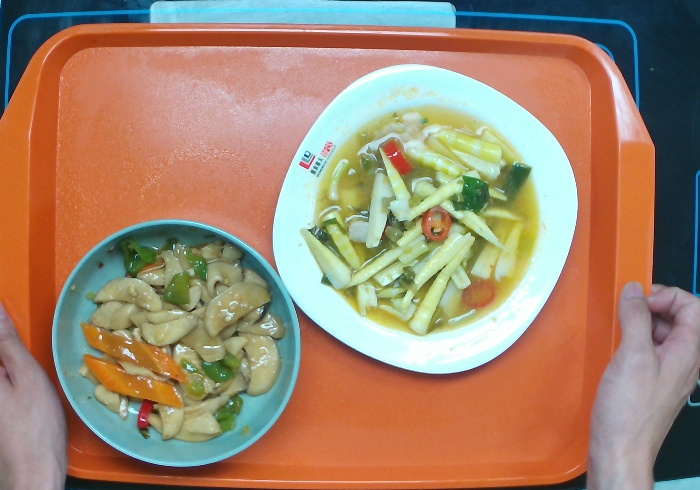ZNLD-Qing_Hua_Yuan_Wan: (44, 217, 300, 472)
ZNLD-Yuan_Jiao_Pan: (270, 65, 582, 377)
